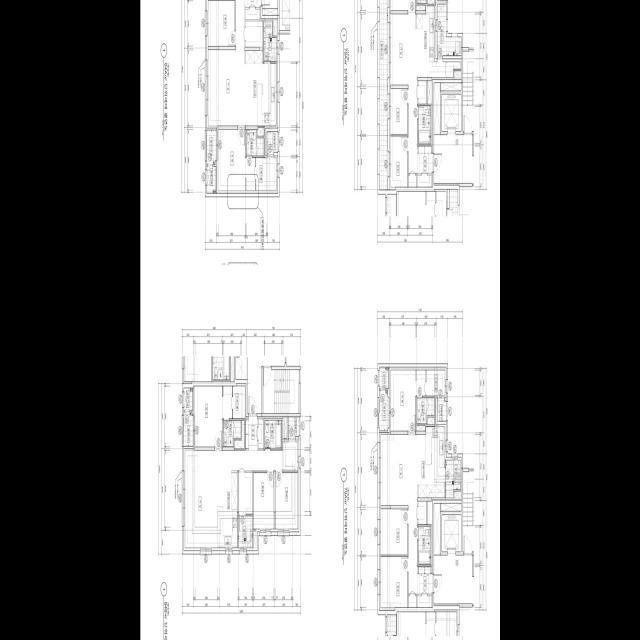background: (140, 0, 500, 640)
space_balconi: (379, 0, 387, 190), (437, 4, 461, 56), (445, 460, 460, 498), (263, 21, 276, 61), (238, 516, 252, 548), (379, 390, 388, 431), (206, 130, 216, 165), (183, 412, 193, 446)
space_bedroom: (194, 386, 222, 447), (218, 129, 245, 191), (390, 370, 415, 431), (380, 557, 407, 608), (380, 509, 407, 555), (275, 473, 297, 529), (208, 0, 234, 46), (253, 473, 274, 529), (390, 136, 407, 187), (390, 89, 407, 134)
space_dressroom: (246, 158, 276, 191), (416, 370, 445, 396), (223, 386, 245, 419)
space_elevator: (441, 94, 461, 131), (441, 515, 461, 552)
space_elevator_hall: (434, 555, 472, 604), (434, 135, 472, 183)
space_front: (417, 146, 433, 174), (417, 567, 433, 594), (245, 415, 257, 450), (245, 0, 261, 7)
space_kitchen: (417, 6, 460, 77), (245, 51, 276, 126), (418, 427, 445, 498), (217, 471, 237, 548)
space_living_room: (185, 442, 297, 548), (380, 435, 418, 594), (208, 0, 245, 126), (390, 14, 417, 174)
space_other: (238, 473, 252, 514), (245, 21, 262, 47), (434, 503, 440, 555), (434, 83, 440, 134), (234, 421, 244, 448), (288, 417, 299, 439), (267, 131, 277, 155), (437, 399, 446, 421), (418, 501, 426, 525), (418, 81, 426, 104), (258, 419, 264, 449), (417, 596, 431, 608), (417, 175, 431, 187), (441, 83, 461, 91), (245, 9, 260, 19), (441, 504, 461, 511), (408, 596, 416, 608), (408, 175, 416, 187), (427, 81, 431, 104), (262, 9, 277, 15), (283, 417, 287, 438), (427, 417, 434, 425), (257, 128, 264, 136), (253, 531, 256, 548), (273, 21, 276, 36), (416, 5, 425, 10), (416, 426, 425, 431), (454, 71, 460, 78), (454, 491, 460, 498), (427, 0, 434, 4)
space_outdoor_room: (206, 167, 216, 193), (183, 388, 192, 410), (379, 367, 388, 389)
space_staircase: (263, 370, 299, 413)
space_toilet: (246, 129, 264, 156), (264, 420, 281, 448), (223, 421, 241, 447), (418, 526, 430, 565), (416, 398, 434, 424), (418, 106, 430, 144)
